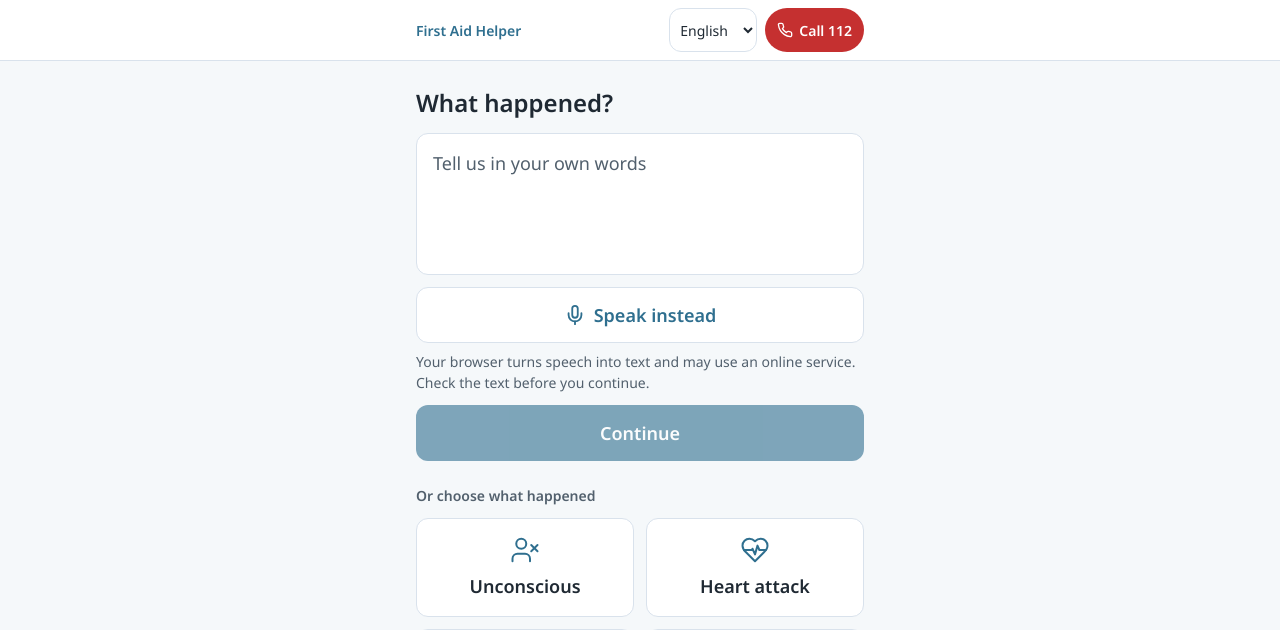
Test case: step checks (Yes / No) › Yes jumps to the step the answer points at, and Back returns along that path
In the text box labelled "What happened?": {"x": 640, "y": 204} [416,133,864,275], type "he is choking"
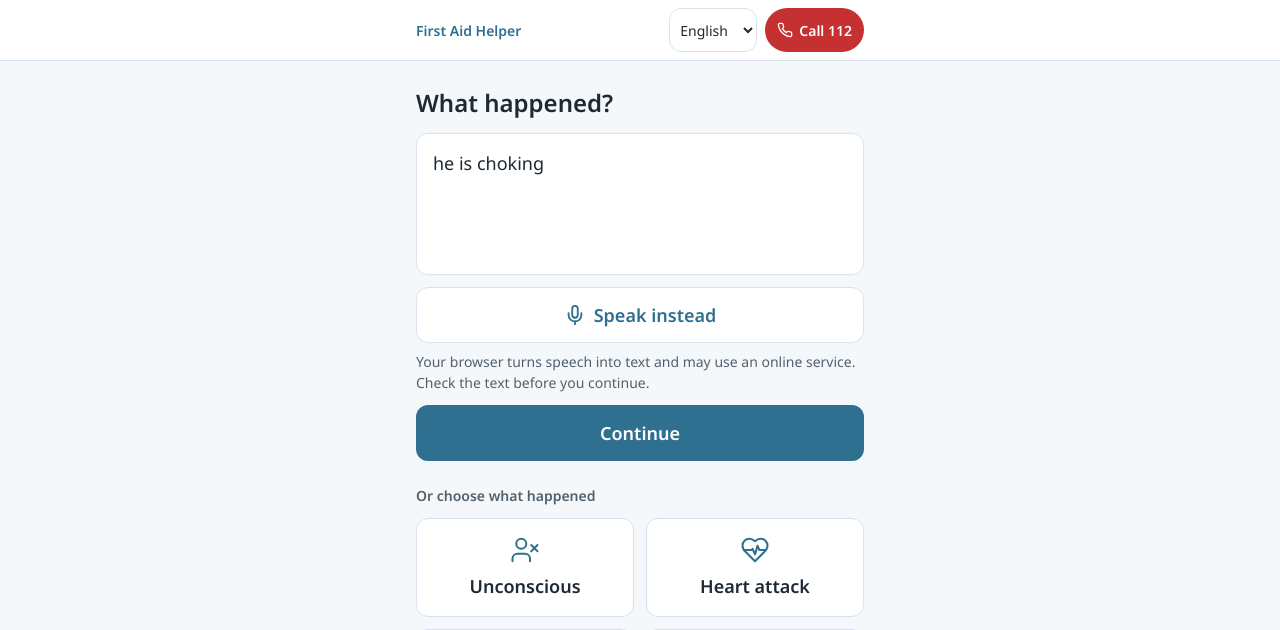
Click the button "Continue": {"x": 640, "y": 433} [416,405,864,461]
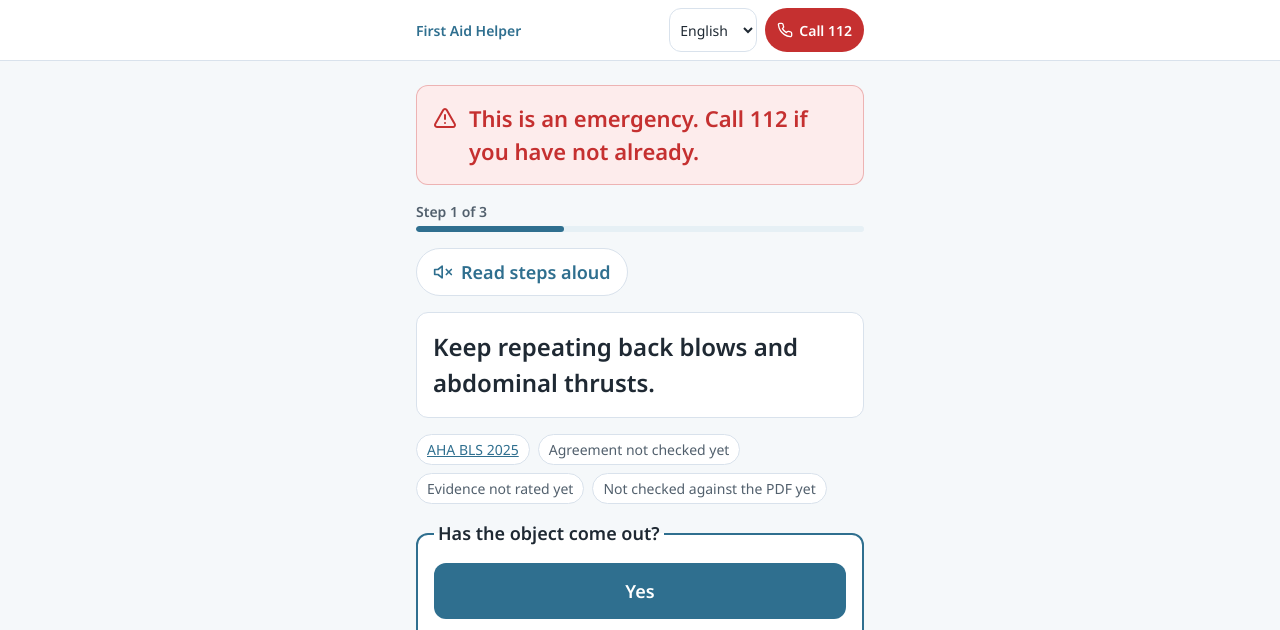
Result: the text "Has the object come out?" is shown at [434,520,664,547]
Click the button "Yes": {"x": 640, "y": 591} [434,563,846,619]
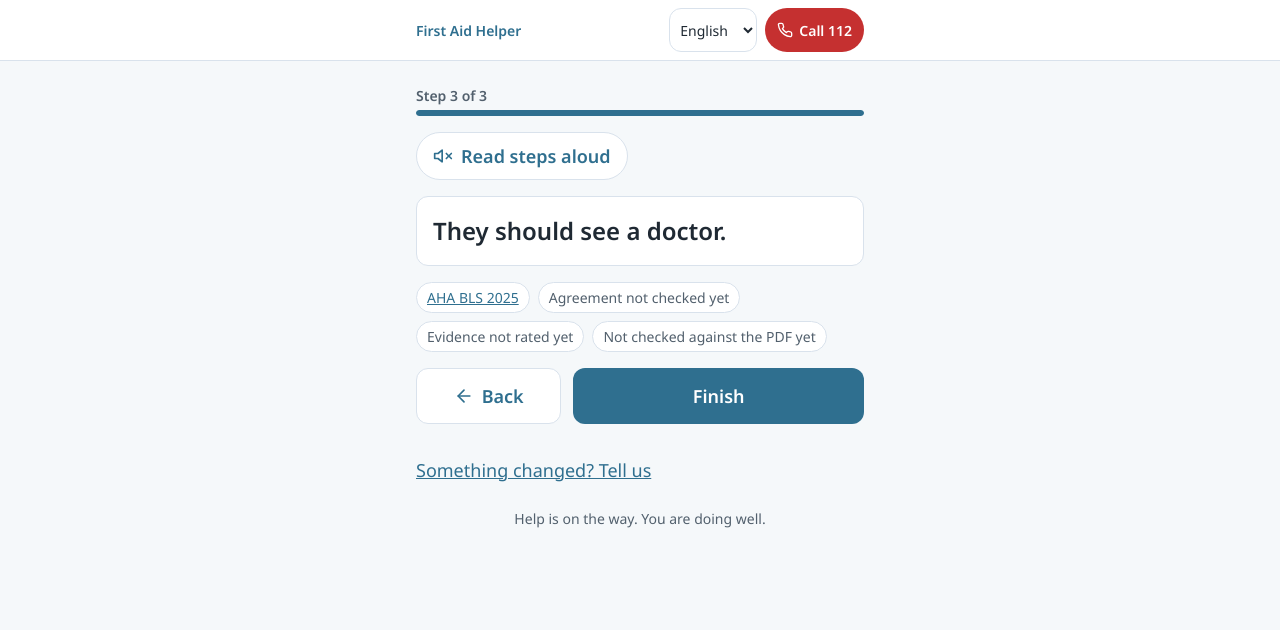
Result: the text "They should see a doctor." is shown at [433,214,726,247]
Click the button "Back": {"x": 489, "y": 396} [416,368,561,424]
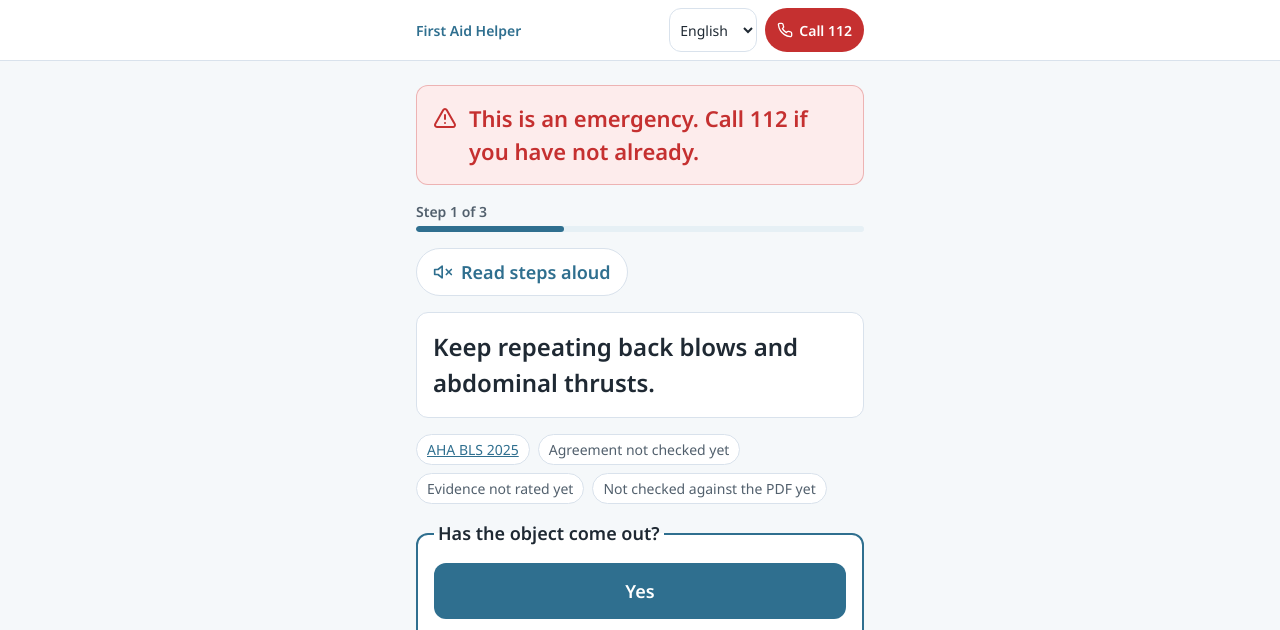
Result: the text "Has the object come out?" is shown at [434,520,664,547]
